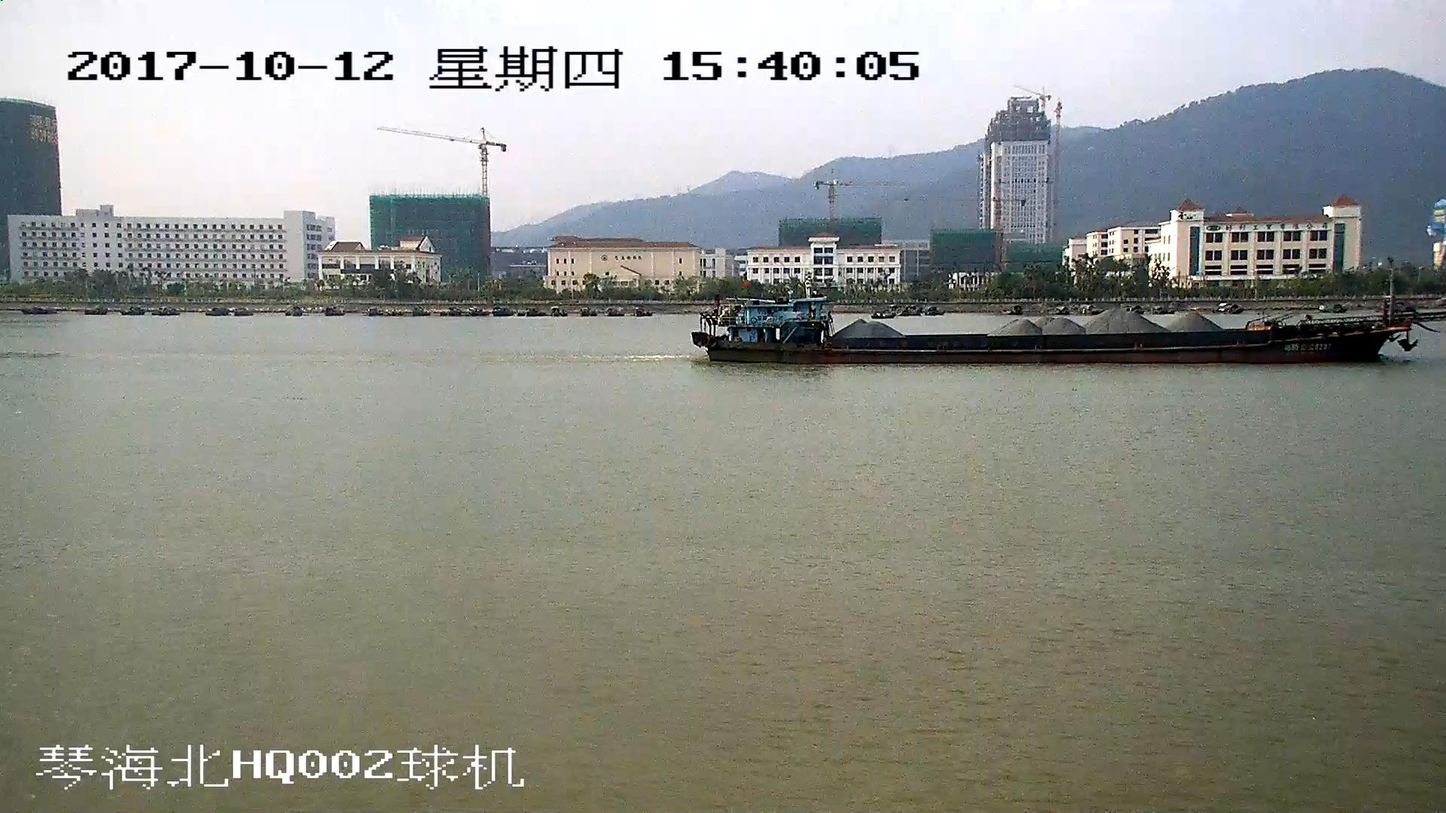ore carrier: (692, 281, 1445, 361)
